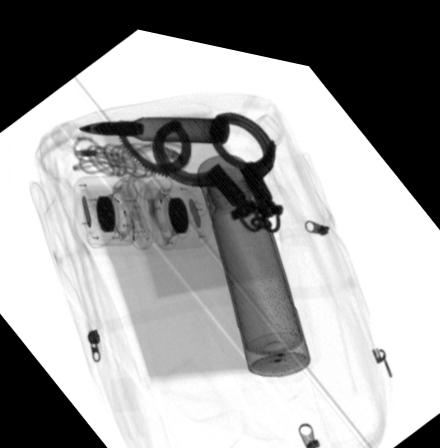Bullet: (78, 108, 230, 135)
HandCuffs: (113, 97, 283, 220)
